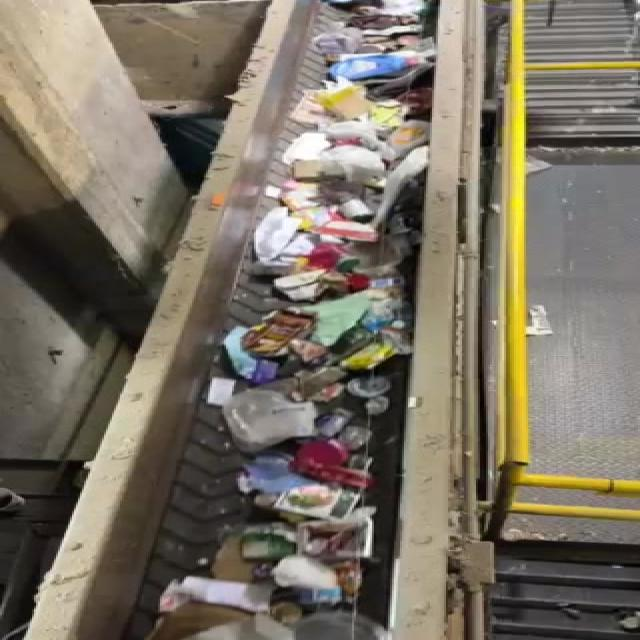paper: (235, 469, 386, 518), (196, 374, 242, 408)
pp: (172, 574, 294, 618), (297, 518, 381, 562)
ps: (222, 393, 328, 455)
